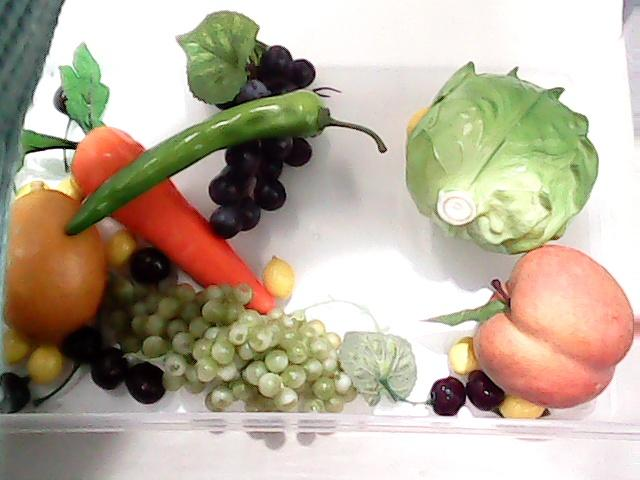cabbage: (404, 56, 600, 255)
carrot: (19, 42, 281, 316)
grape: (98, 274, 416, 408), (176, 12, 316, 241)
lemon: (0, 181, 120, 333)
peach: (424, 247, 636, 409)
pepper: (59, 88, 388, 240)
